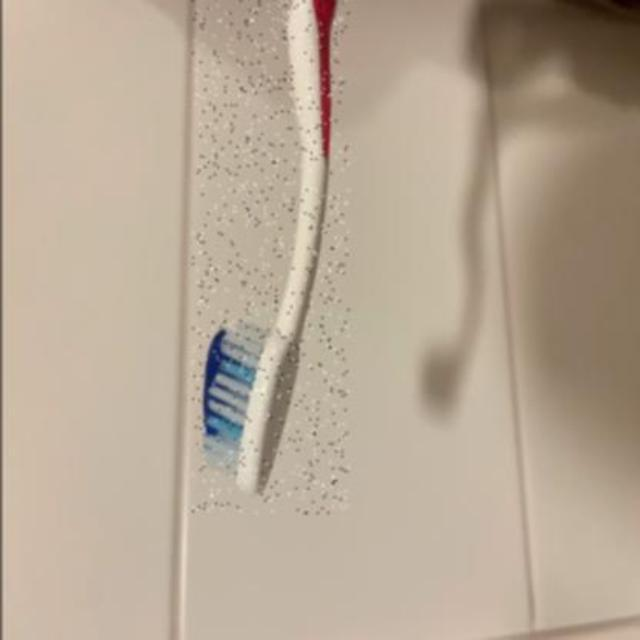toothbrush: (192, 1, 348, 514)
